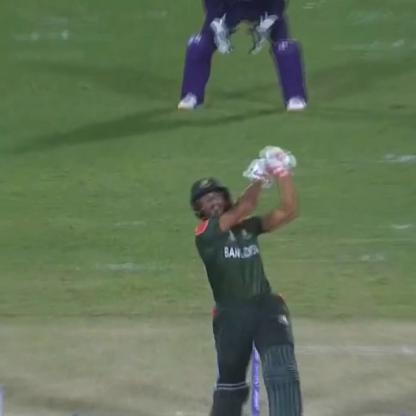bat: (232, 147, 305, 208)
